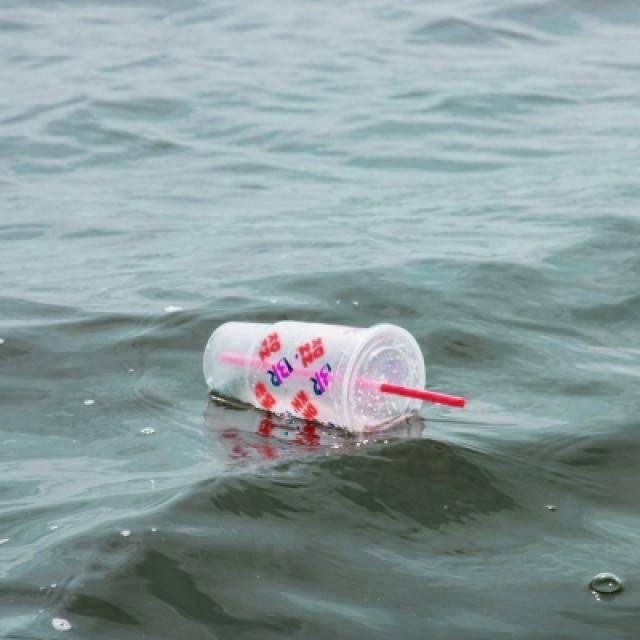Plastic: (201, 303, 476, 444)
